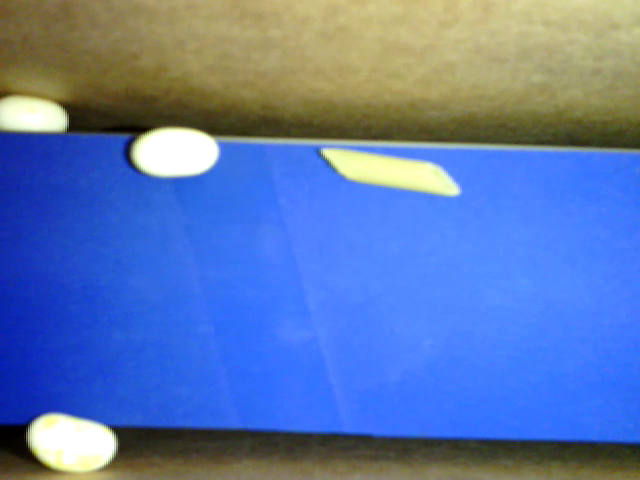penne: (320, 146, 461, 197)
